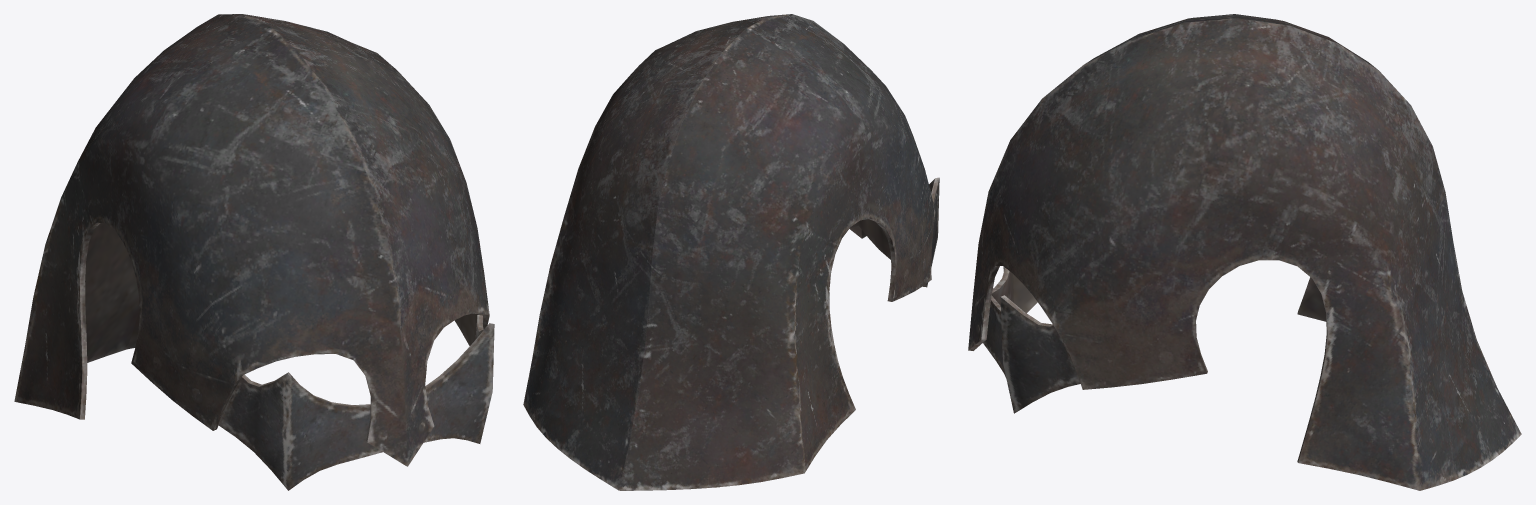
Rendered from sk_dg_uruk_helmet_med_g.fbx.
3 views of the same model, side by side, from view 1: azimuth 30°, elevation 25°; view 2: azimuth 150°, elevation 25°; view 3: azimuth 270°, elevation 25° (orthographic). The views are drawn at different scales.
Parts seen in each view (by area): view 1: sk_dg_uruk_helmet_med_g; view 2: sk_dg_uruk_helmet_med_g; view 3: sk_dg_uruk_helmet_med_g.
Boxes of the visible parts, box(x1,y1,x2,y2) form: sk_dg_uruk_helmet_med_g: box(14, 14, 494, 490); sk_dg_uruk_helmet_med_g: box(523, 14, 939, 490); sk_dg_uruk_helmet_med_g: box(968, 14, 1521, 490).
Bounding box in the file's own units: 0.2027 × 0.3064 × 0.2553.
Materials: 1 (1 with a texture image).
